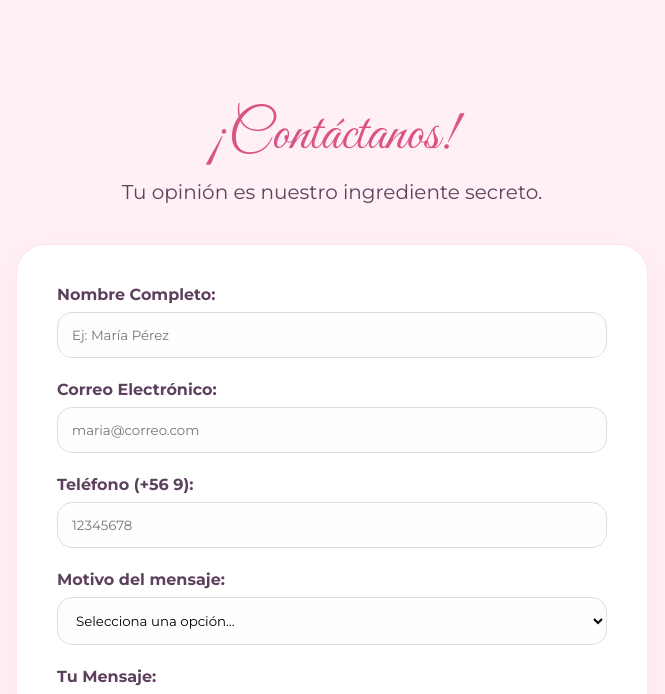
Test: Pruebas de Formulario de Contacto - My Dreams › 2. Debe validar que el teléfono tenga 8 dígitos
In the field with placeholder "12345678": (332, 525) [57, 502, 607, 548], type "123"
(page scrolled)
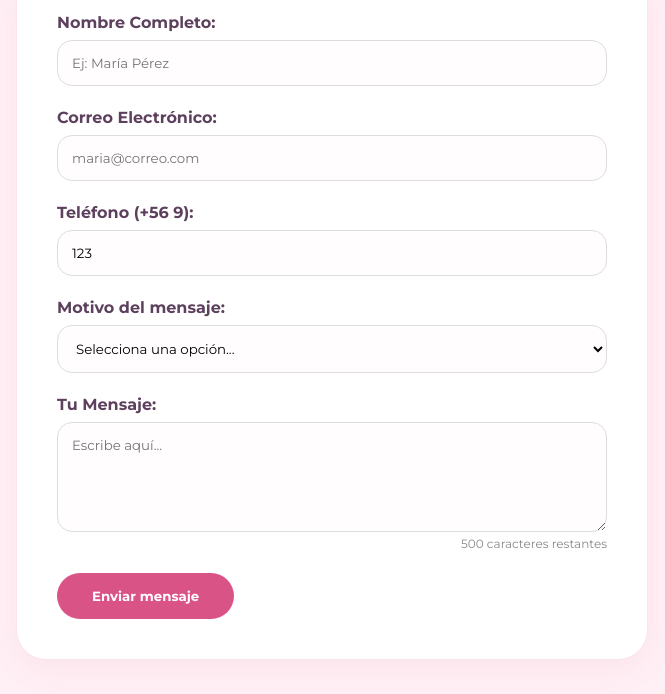
Click the button "Enviar mensaje": click(146, 596) [57, 573, 234, 619]
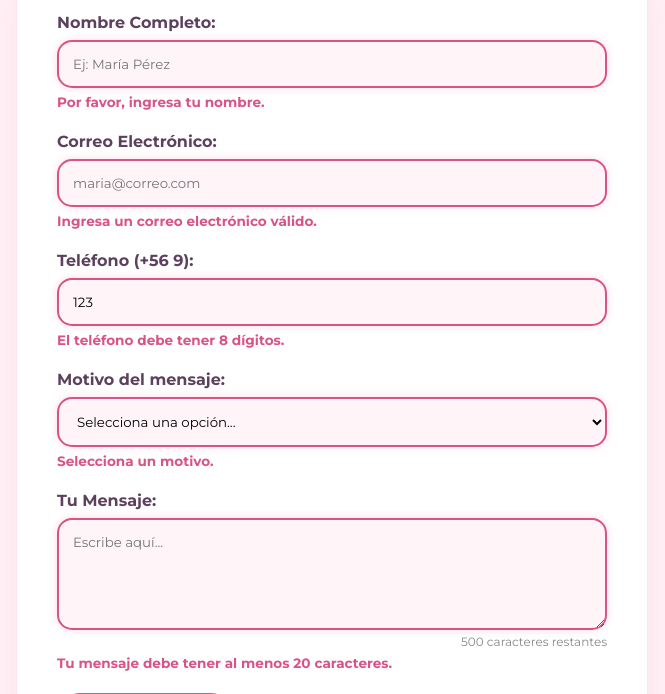
Expected: the text "El teléfono debe tener 8 dígitos." is shown, [57, 332, 284, 348]
